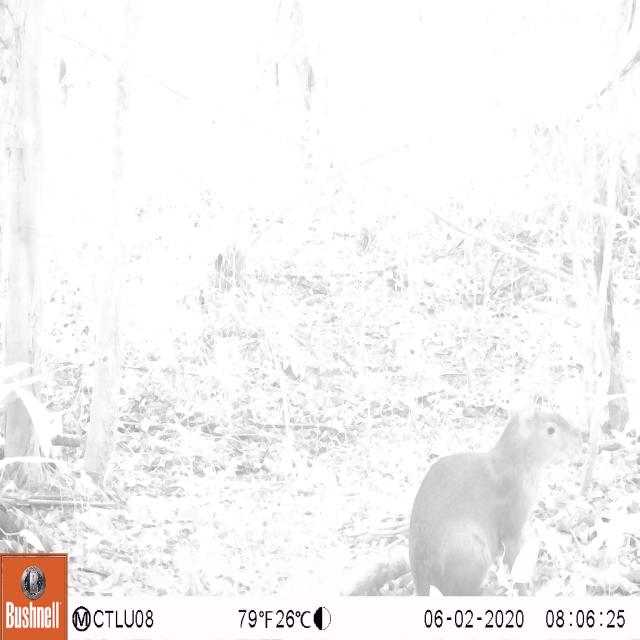Black Agouti: (402, 397, 588, 600)
